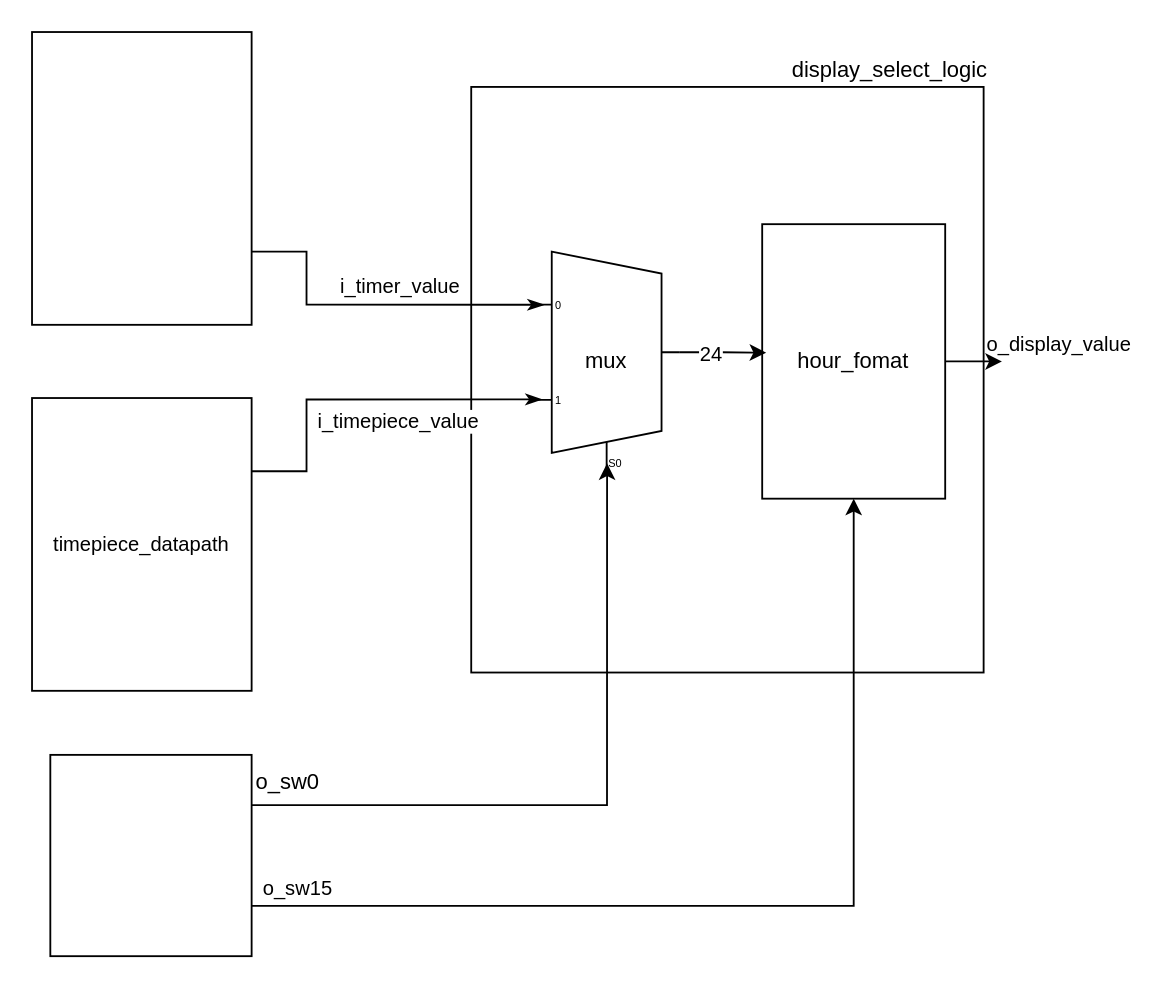
Some shapes in this 1162 by 988 pixel diagram are drawn without their labels. Each missing label, with the centre of its shape:
"input_conditioning" goes at [150,854].
"timer_datapath" goes at [141,177].
